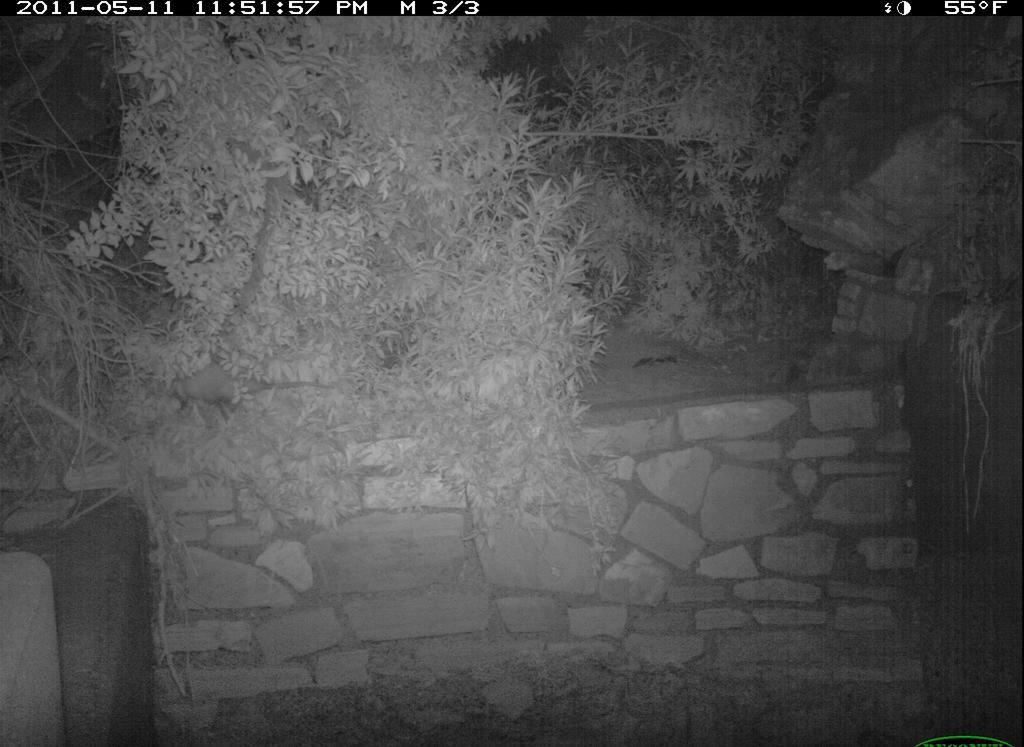opossum: (123, 350, 345, 425)
